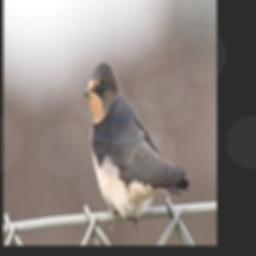Swallow: (84, 59, 191, 232)
